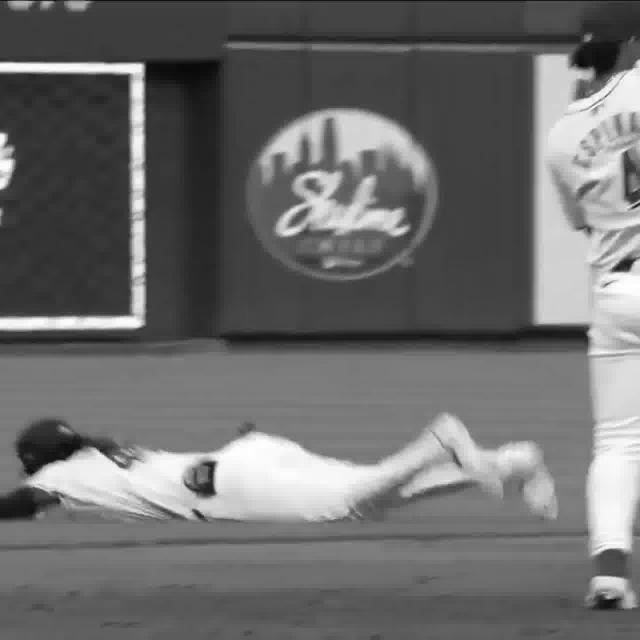shoe: (435, 415, 504, 503), (513, 446, 569, 530), (590, 569, 637, 611)
